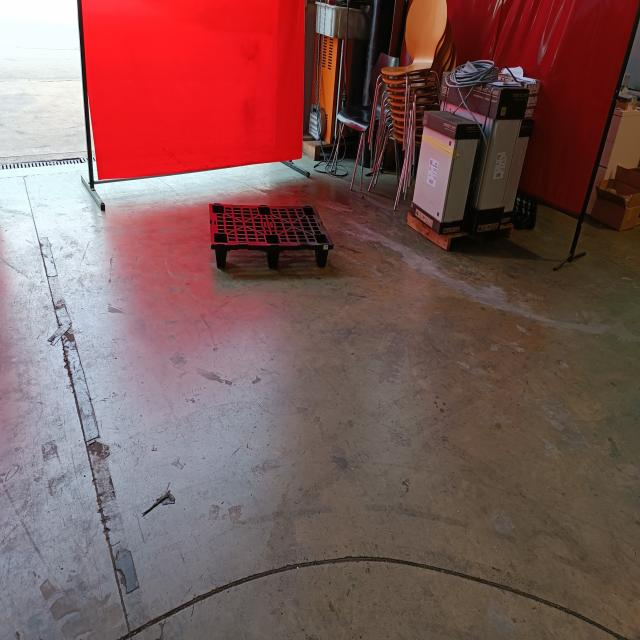block: (313, 241, 332, 272), (262, 241, 282, 270), (210, 239, 228, 271)
front: (210, 235, 336, 278)
